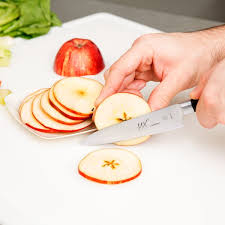knife: (70, 90, 225, 150)
